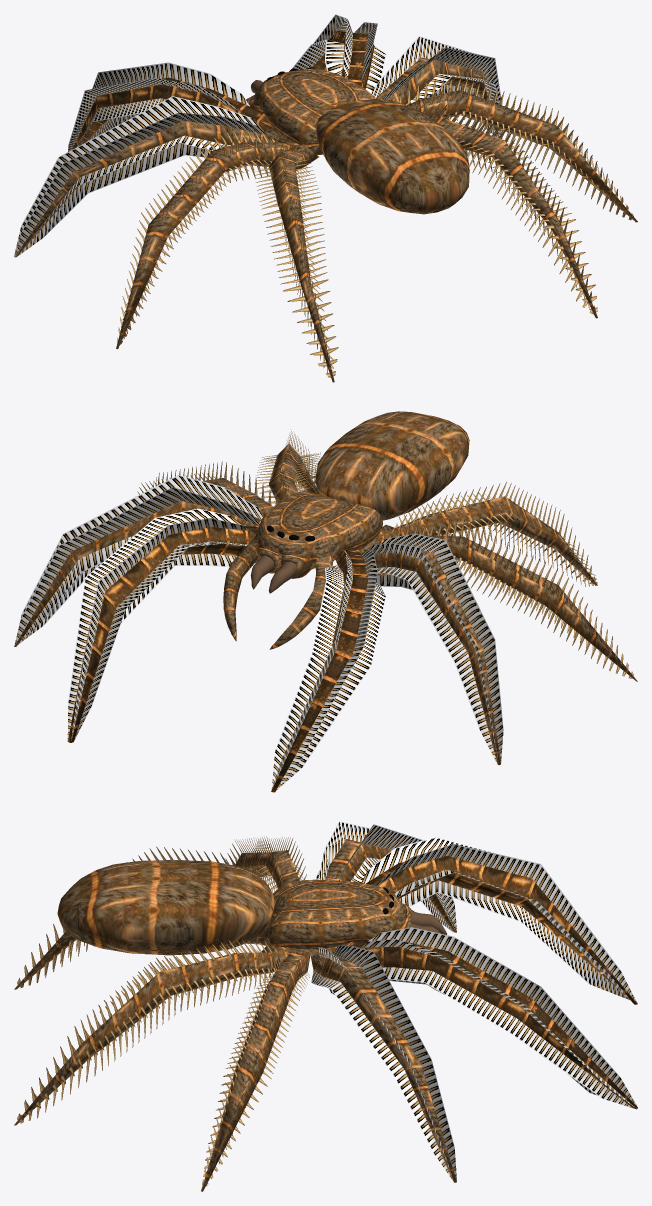
Rendered from aranha.obj.
3 views of the same model, one above another, from view 1: azimuth 30°, elevation 25°; view 2: azimuth 150°, elevation 25°; view 3: azimuth 270°, elevation 25° (orthographic). The views are drawn at different scales.
Visible parts, largest first — view 1: Spider_Spider.005, Spider_Fur_Spider; view 2: Spider_Spider.005, Spider_Fur_Spider, Spider_teeth_Spider.004; view 3: Spider_Spider.005, Spider_Fur_Spider, Spider_teeth_Spider.004.
Boxes of the visible parts, left/top/right/bottom form: Spider_Spider.005: left=14, top=31, right=637, bottom=382; Spider_Fur_Spider: left=14, top=14, right=633, bottom=378; Spider_Spider.005: left=14, top=411, right=637, bottom=792; Spider_Fur_Spider: left=14, top=431, right=633, bottom=791; Spider_teeth_Spider.004: left=250, top=555, right=297, bottom=593; Spider_Spider.005: left=14, top=839, right=637, bottom=1191; Spider_Fur_Spider: left=17, top=821, right=637, bottom=1186; Spider_teeth_Spider.004: left=410, top=911, right=446, bottom=934.
Bounding box in the file's own units: 10.05 × 3.25 × 9.83.
6 materials, 4 textured.
